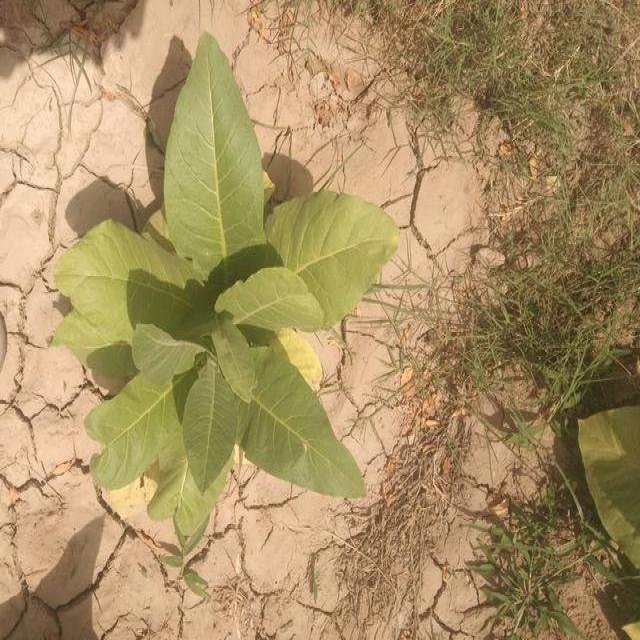crop: (67, 47, 386, 534), (580, 402, 640, 564)
